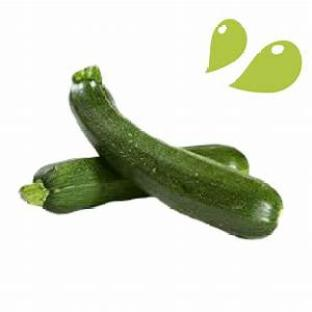Zucchini: (70, 67, 282, 238), (20, 158, 147, 213)
